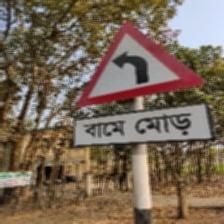Left-Turn: (72, 19, 213, 147)
